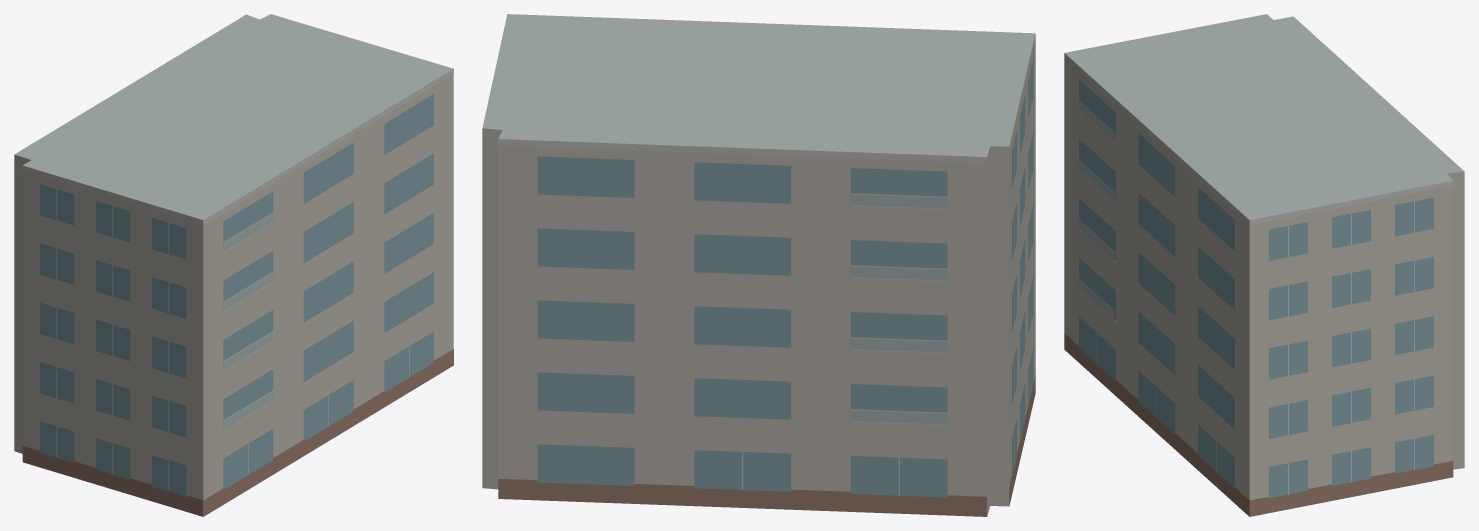
Rendered from survey-upis-32617764.glb.
3 renders of one model, left to right at view 1: azimuth 30°, elevation 25°; view 2: azimuth 150°, elevation 25°; view 3: azimuth 270°, elevation 25°, orthographic. The views are drawn at different scales.
Parts seen in each view (by area): view 1: survey-upis-32617764.tmp; view 2: survey-upis-32617764.tmp; view 3: survey-upis-32617764.tmp.
Boxes of the visible parts, x1=… form: survey-upis-32617764.tmp: x1=14, y1=14, x2=453, y2=516; survey-upis-32617764.tmp: x1=482, y1=14, x2=1035, y2=516; survey-upis-32617764.tmp: x1=1064, y1=14, x2=1464, y2=516.
Bounding box in the file's own units: 21.47 × 14.4 × 17.61.
